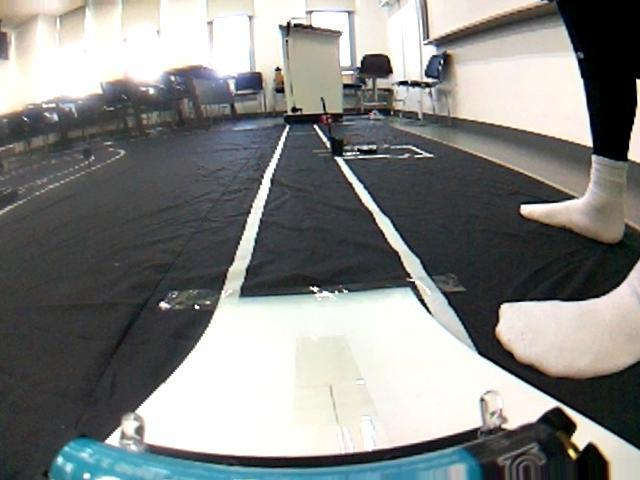hill_down: (12, 183, 640, 480)
sign_stop: (320, 108, 335, 128)
